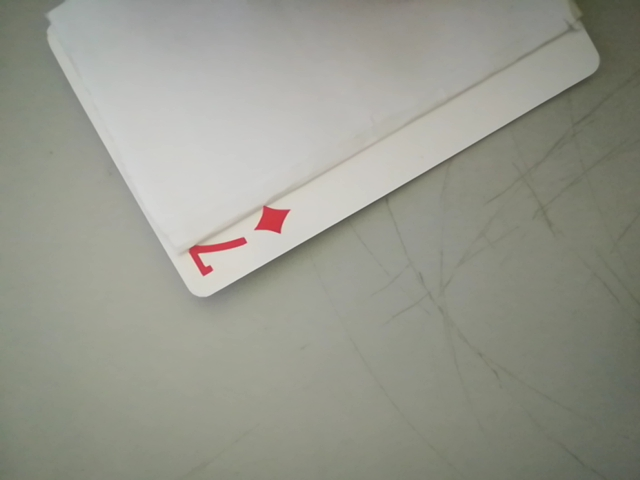fk 7: (180, 206, 300, 288)
